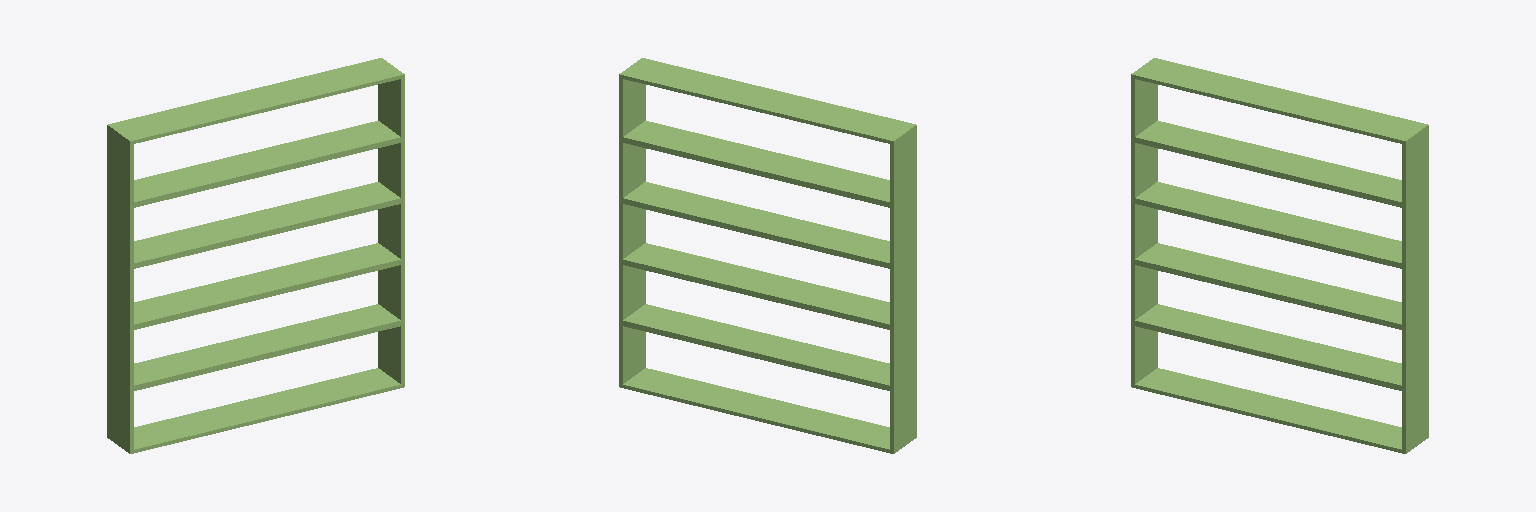
The model's file is bookcase.obj.
3 views of the same model, side by side, from view 1: azimuth 30°, elevation 25°; view 2: azimuth 150°, elevation 25°; view 3: azimuth 330°, elevation 25° (orthographic).
Visible parts, largest first — view 1: Bookcase_(1); view 2: Bookcase_(1); view 3: Bookcase_(1).
Boxes of the visible parts, box(x1,y1,x2,y2) form: Bookcase_(1): box(107, 58, 404, 453); Bookcase_(1): box(619, 58, 916, 453); Bookcase_(1): box(1131, 58, 1428, 453).
Bounding box in the file's own units: 4.6 × 5.01 × 0.6656.